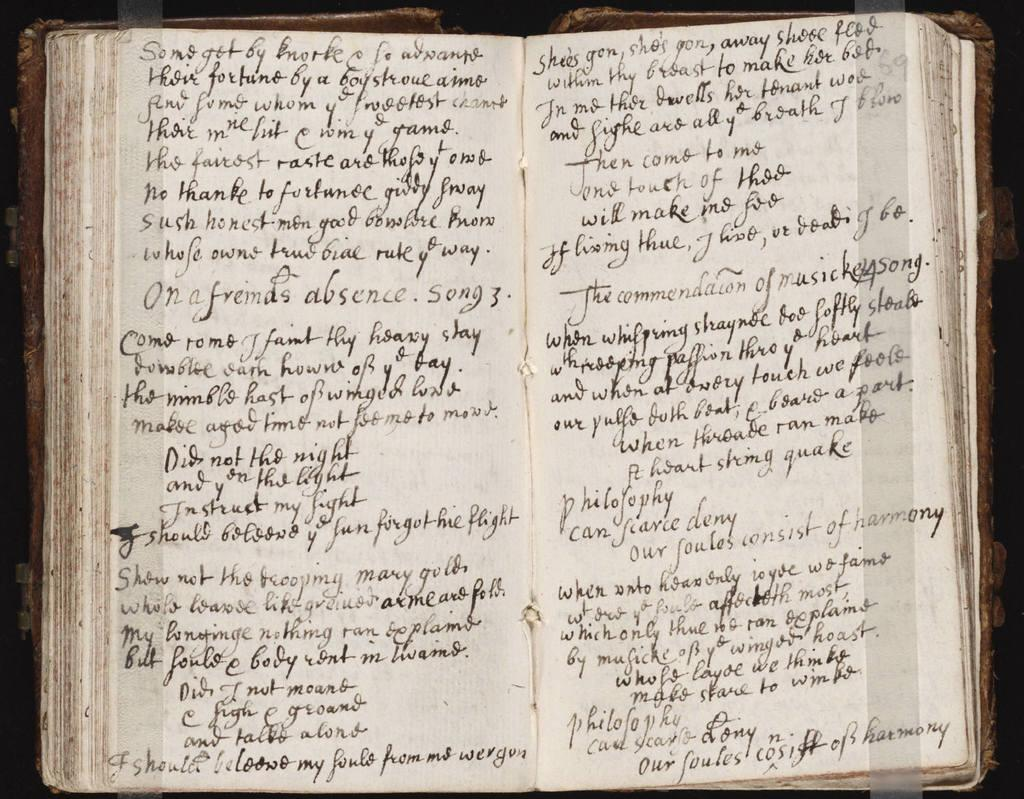Book: (13, 0, 1003, 795)
